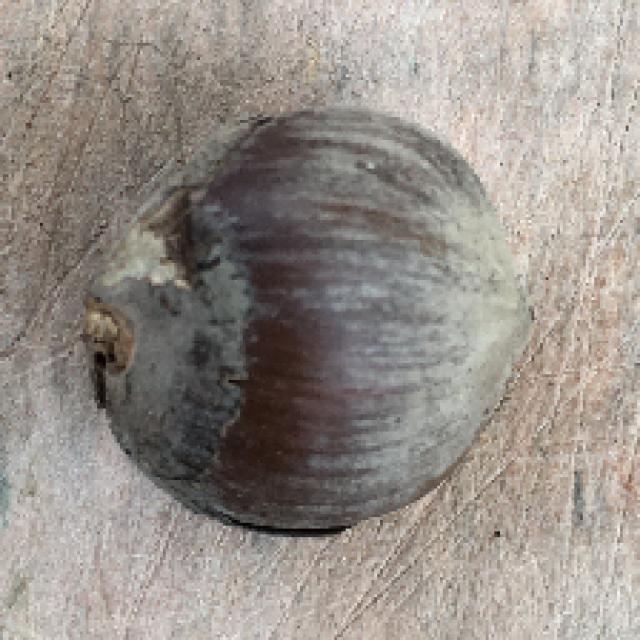damagedHazelnut: (83, 100, 544, 544)
